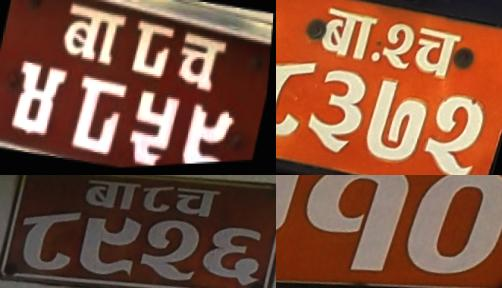0: (399, 175, 502, 288)
1: (287, 175, 424, 287)
2: (415, 82, 499, 175), (133, 214, 213, 288), (373, 16, 424, 79)
3: (300, 61, 380, 160)
4: (4, 56, 72, 148)
5: (122, 87, 186, 169), (276, 175, 311, 281)
6: (197, 221, 276, 288)
7: (360, 72, 442, 172)
8: (62, 71, 133, 163), (7, 200, 89, 279), (276, 48, 323, 145), (123, 18, 182, 88), (136, 182, 179, 219)
9: (72, 208, 151, 285), (176, 99, 244, 167)
ba: (54, 0, 129, 73), (312, 1, 384, 68), (77, 175, 145, 217)
cha: (172, 30, 232, 100), (408, 20, 468, 89), (169, 183, 223, 224)
